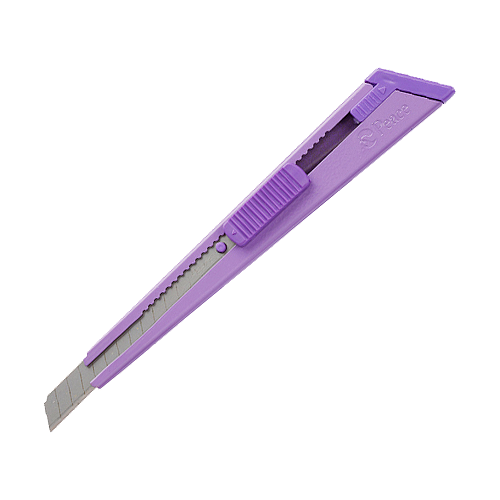knife: (40, 67, 455, 434)
